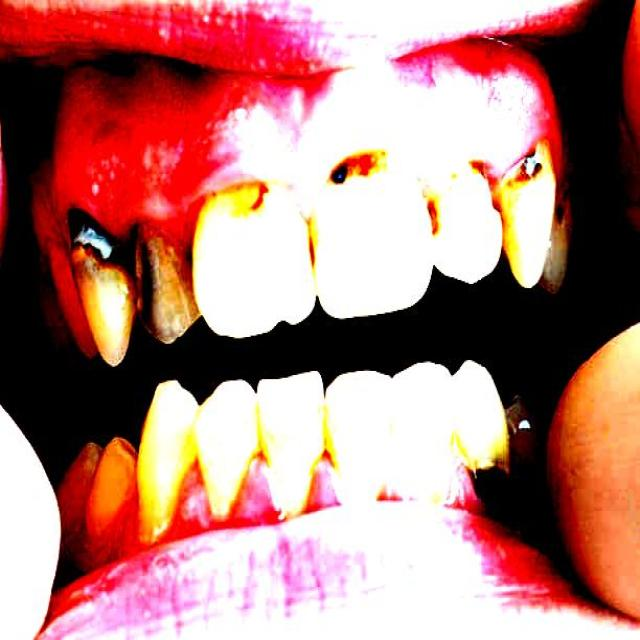caries: (61, 199, 127, 277), (316, 136, 386, 202), (412, 180, 457, 248), (229, 164, 279, 225), (467, 147, 509, 216), (509, 137, 550, 196)
